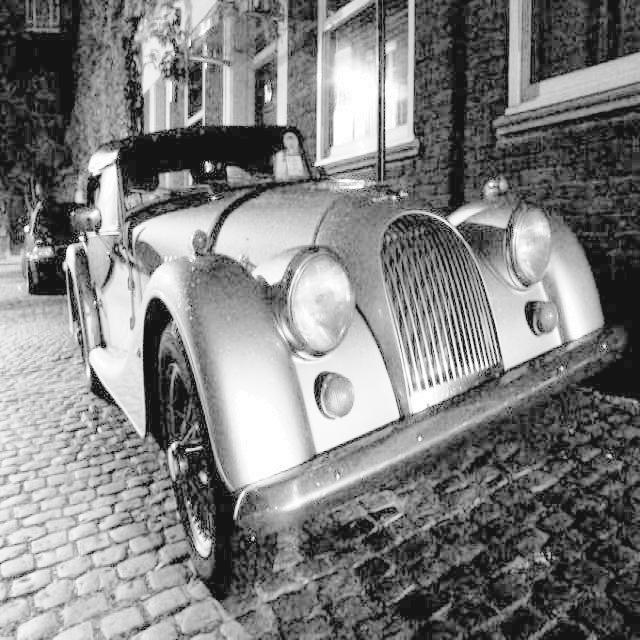Car: (68, 106, 577, 586), (6, 167, 94, 313)
